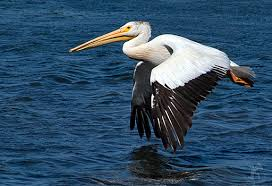pelican: (69, 21, 255, 153)
